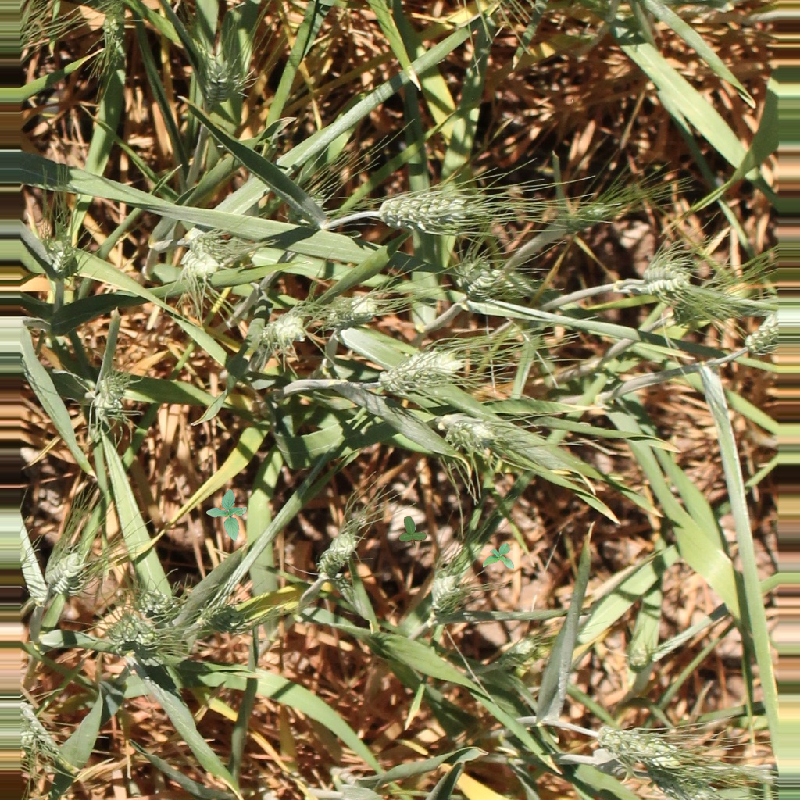spikelet: (376, 184, 472, 232), (377, 346, 464, 395), (596, 723, 682, 766), (452, 256, 530, 298), (649, 764, 719, 800), (180, 227, 224, 279), (202, 54, 244, 106), (437, 411, 496, 447), (315, 529, 359, 577), (639, 255, 691, 294), (44, 548, 86, 594), (107, 610, 156, 648), (88, 371, 129, 415), (324, 293, 377, 327), (259, 312, 307, 348), (194, 600, 243, 635), (97, 1, 127, 53), (743, 315, 782, 354), (496, 636, 540, 670), (428, 571, 462, 612), (44, 237, 78, 276)
weed: (206, 489, 247, 541), (399, 516, 427, 546), (483, 543, 514, 569)
